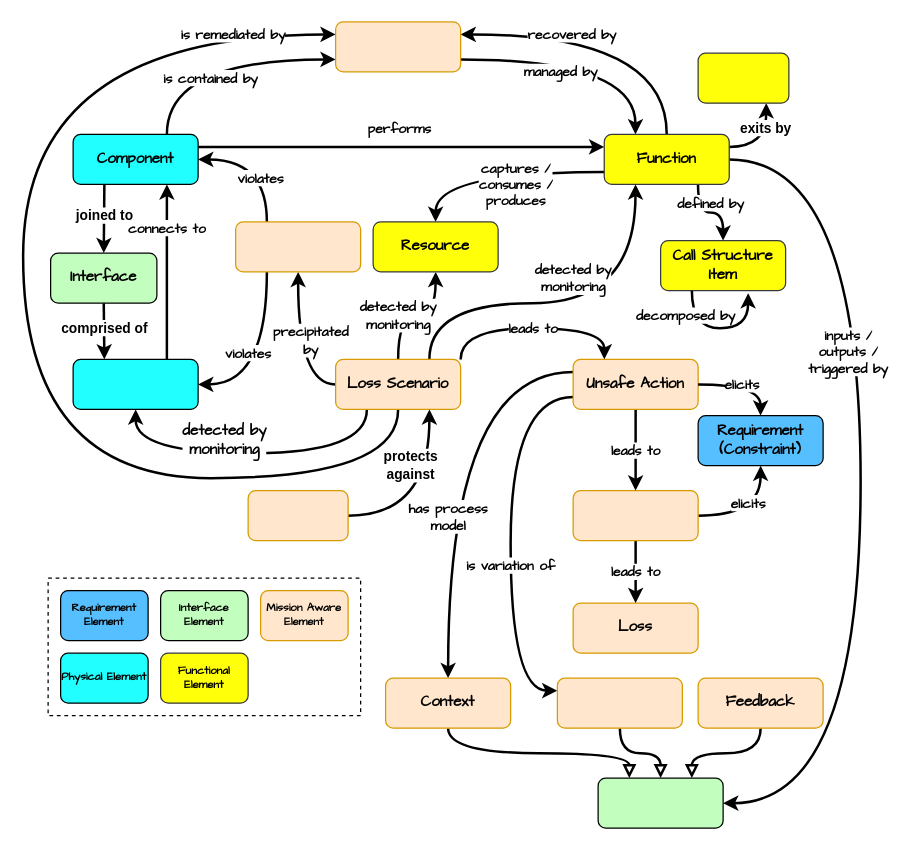
Image size: 909x850. Some labels were removed from this diagram. The centre of each missing label's shape, as x and y in pixels:
"Attack Vector" goes at [297,246].
"Control Action" goes at [619,702].
"Exit" goes at [743,77].
"Hazard" goes at [635,515].
"Item" goes at [660,802].
"Link" goes at [135,383].
"Resilient Mode" goes at [397,46].
"Sentinel" goes at [297,515].
